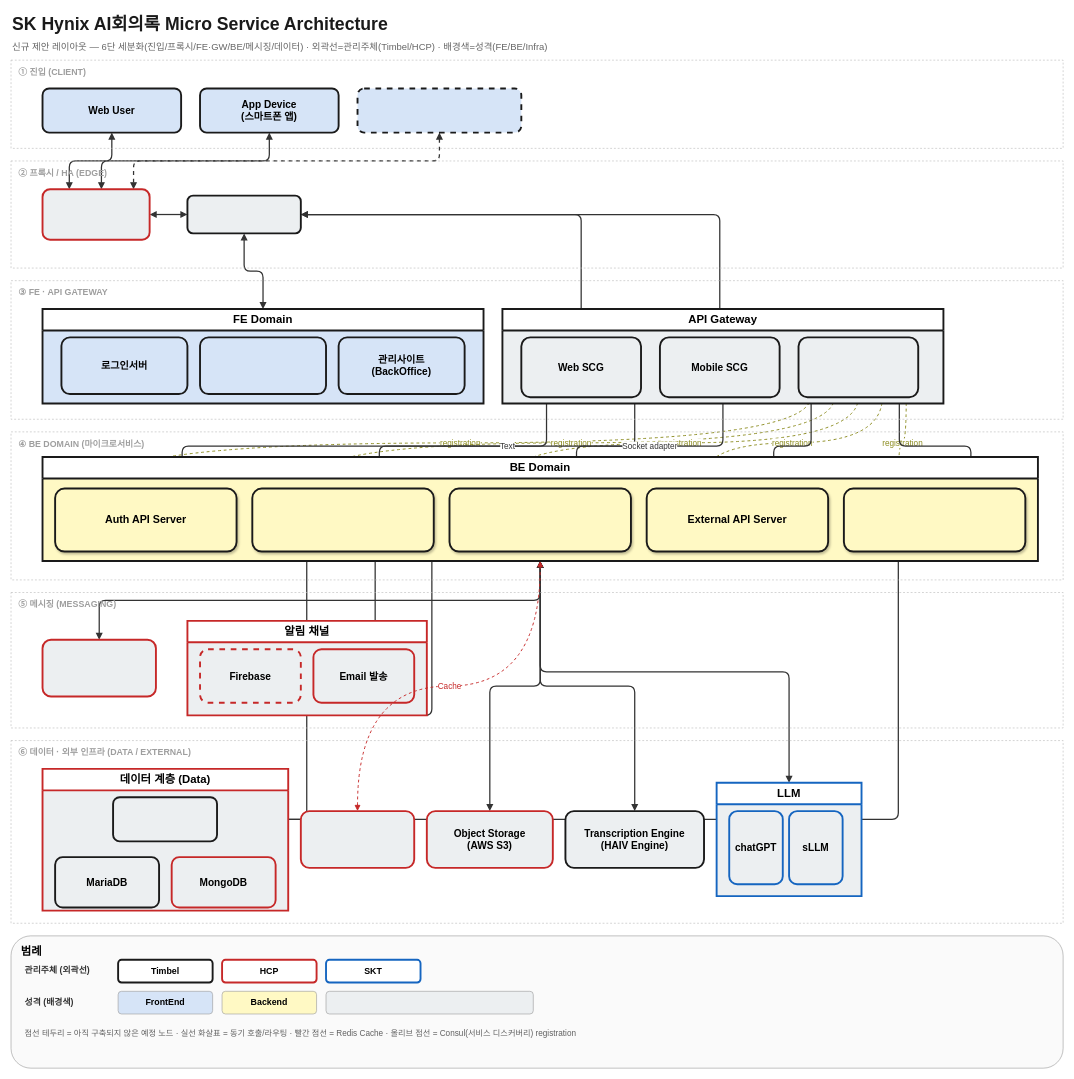
This 1074x1079 diagram has some shape labels left out. Here are the shapes that lost their labels. From the top down, the centre of each, then its label:
At (x=439, y=110): "OS (Windows Application) (예정)".
At (x=95, y=214): "L4 스위치 (HA Proxy)".
At (x=243, y=214): "Nginx".
At (x=263, y=365): "유저사이트 (회의록)".
At (x=858, y=367): "Consul".
At (x=343, y=521): "Main API Server".
At (x=540, y=521): "Notify API Server".
At (x=935, y=521): "Admin API Server".
At (x=99, y=668): "메시징 (Kraft/Kafka)".
At (x=165, y=819): "Prisma (ORM)".
At (x=357, y=839): "Redis".
At (x=429, y=1002): "Infra (Proxy/HA·DB·Message·STT·외부연동)".
